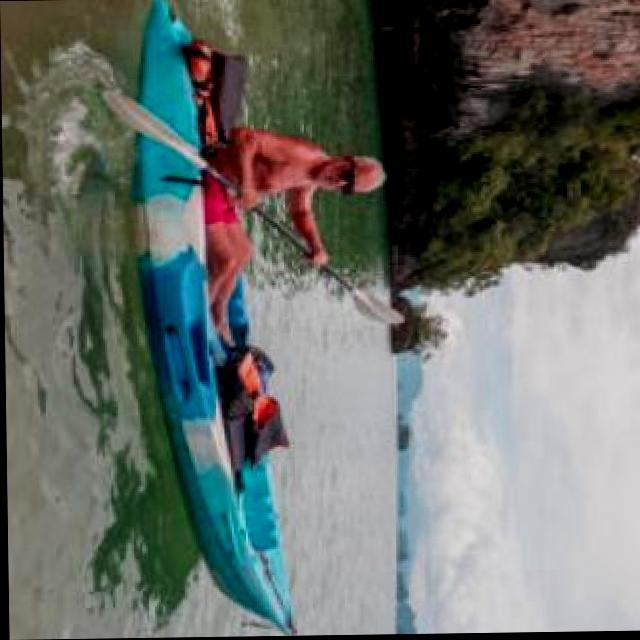kayak: (105, 0, 295, 635)
